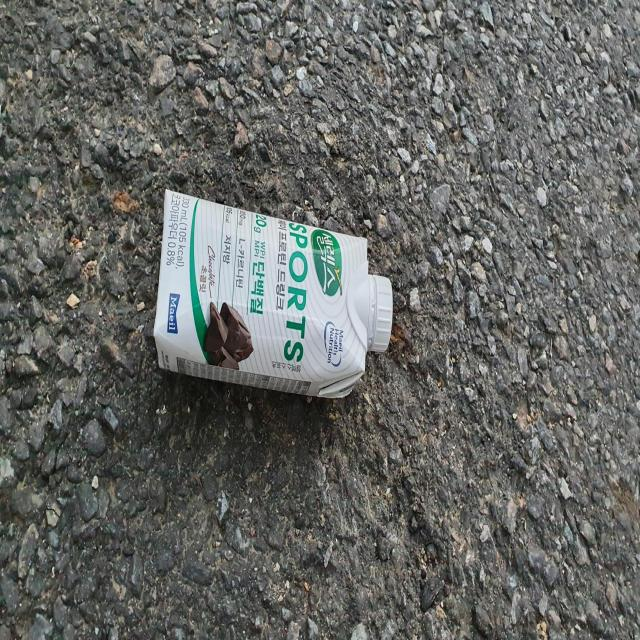paperpack: (154, 188, 393, 398)
